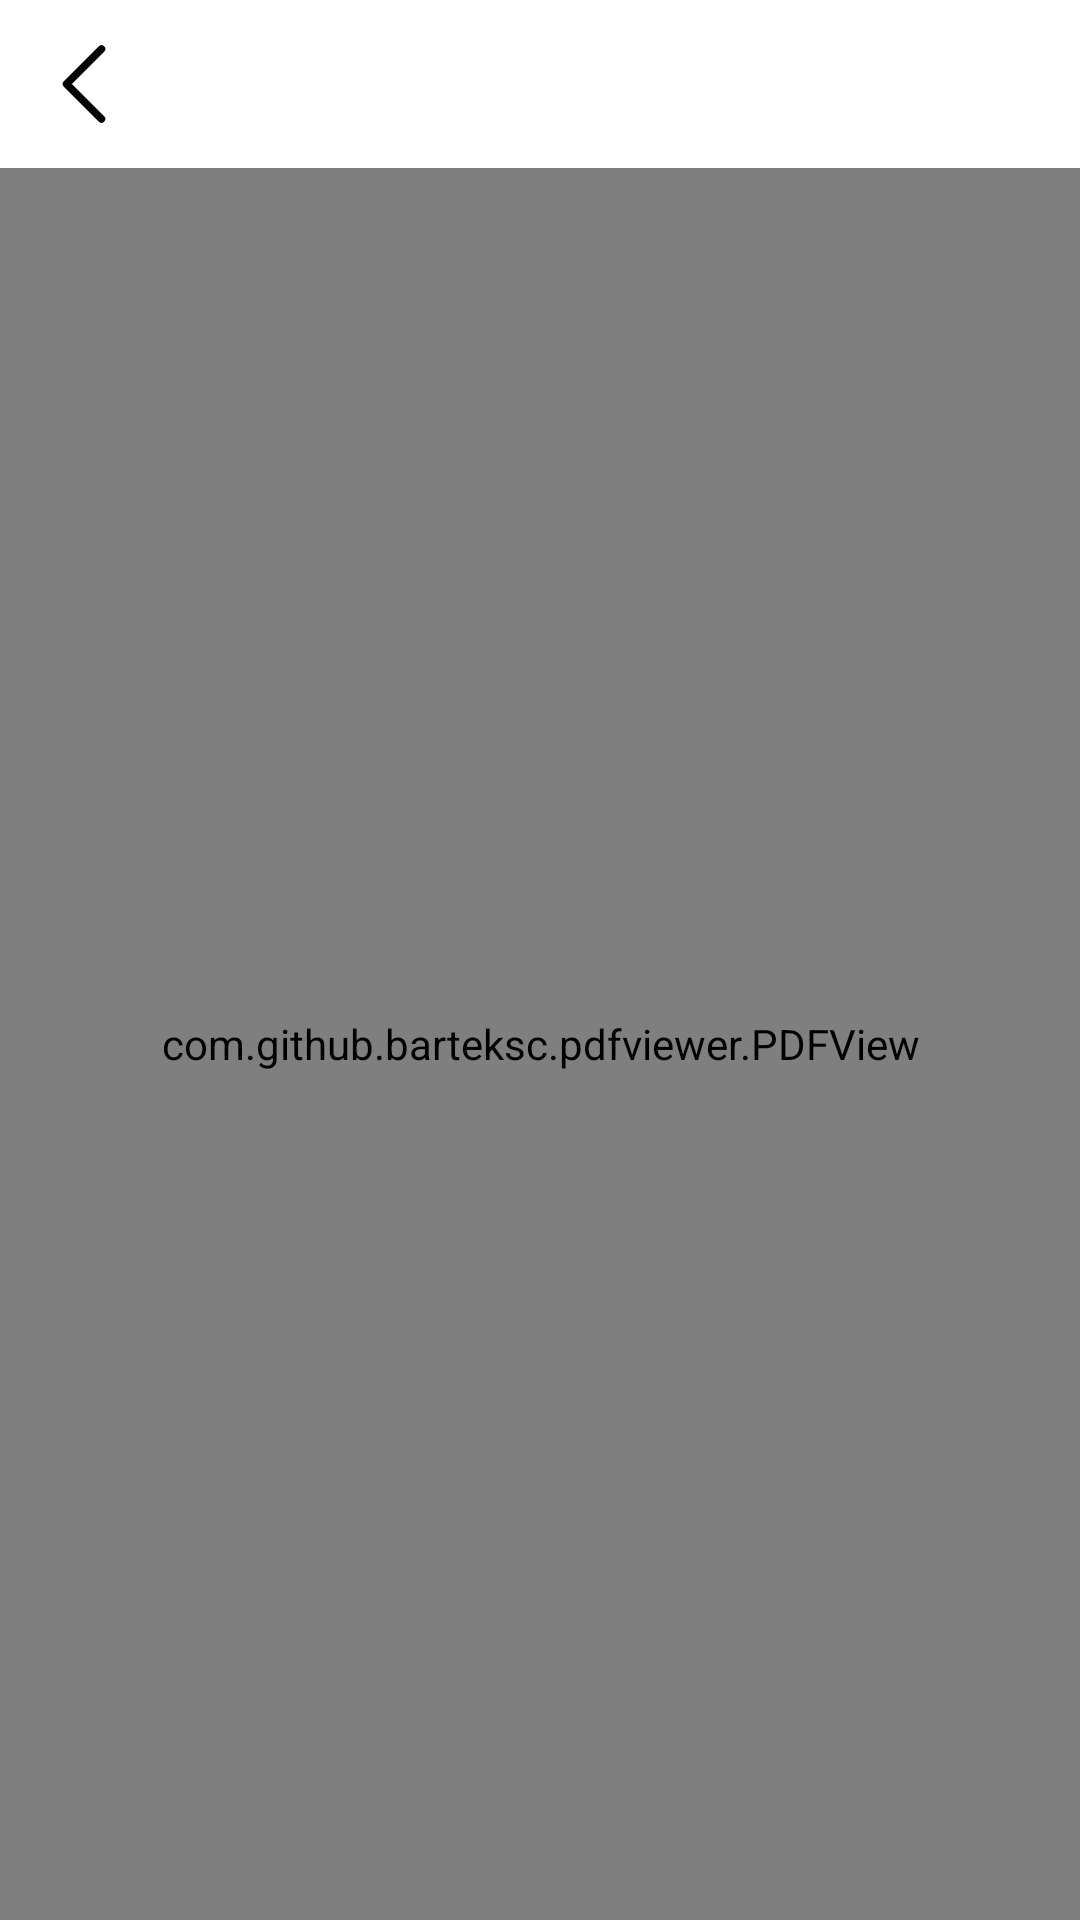

Locate icon controls on the screen. Image size 1080*1920, boxes as (x1, y1, x2, y2).
arrow: (62, 45, 106, 123)
